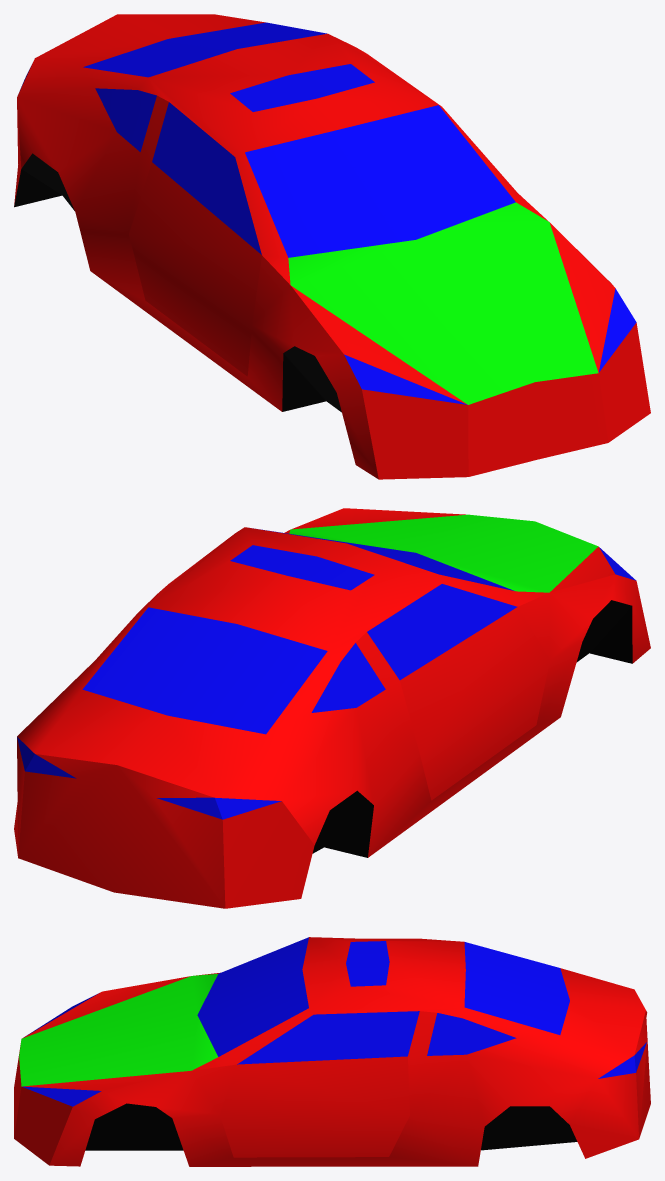
Rendered from coupe-sport-lod2.glb.
The picture shows the model from 3 angles, top to bottom: view 1: azimuth 30°, elevation 25°; view 2: azimuth 150°, elevation 25°; view 3: azimuth 270°, elevation 25°; orthographic projection. The views are drawn at different scales.
Visible parts, largest first — view 1: body; view 2: body; view 3: body.
Boxes of the visible parts, box(x1,y1,x2,y2) form: body: box(14, 14, 650, 479); body: box(14, 508, 650, 908); body: box(14, 937, 650, 1166).
Bounding box in the file's own units: 1.81 × 1.18 × 4.44.
1 material, 1 textured.
